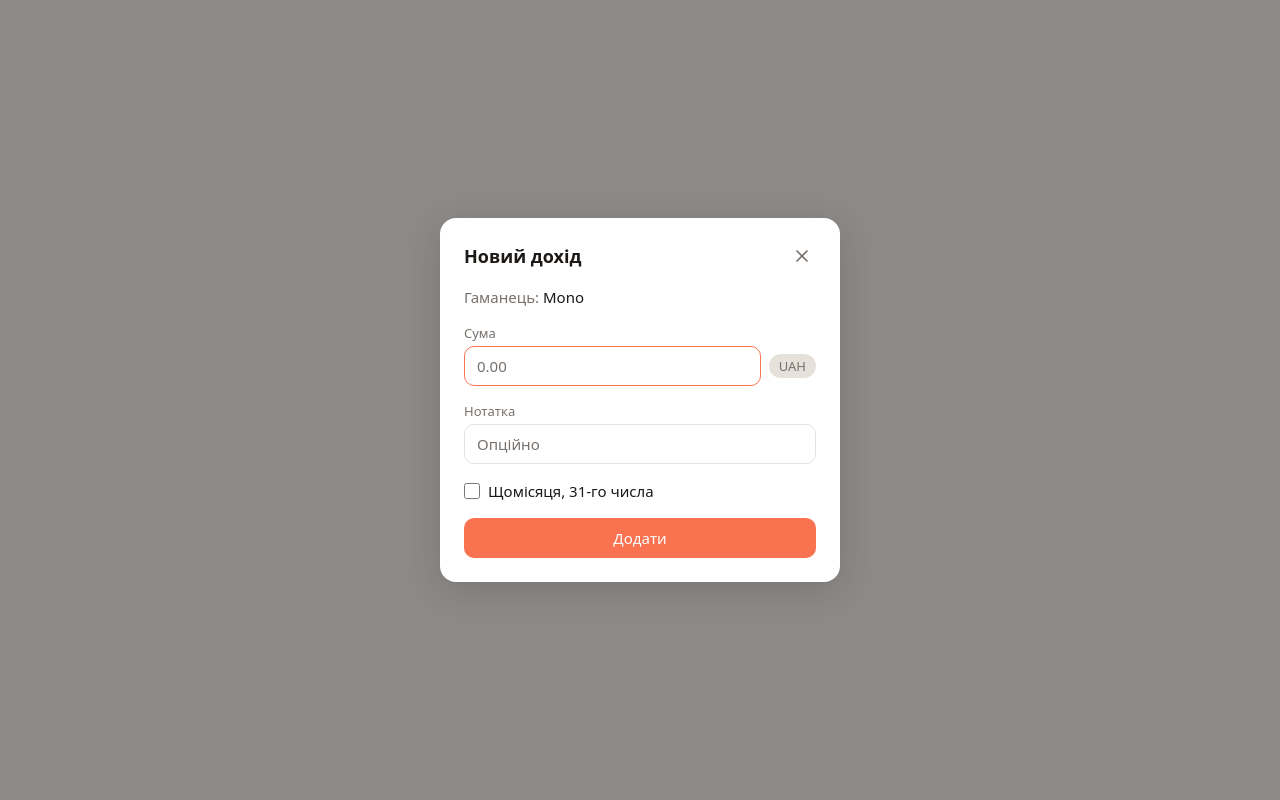
Scenario: IncomeDialog › asks for a name before creating a monthly rule
Type "250" into the field labelled "Сума".
click(612, 366); type("250")  # box [464,346,761,386]
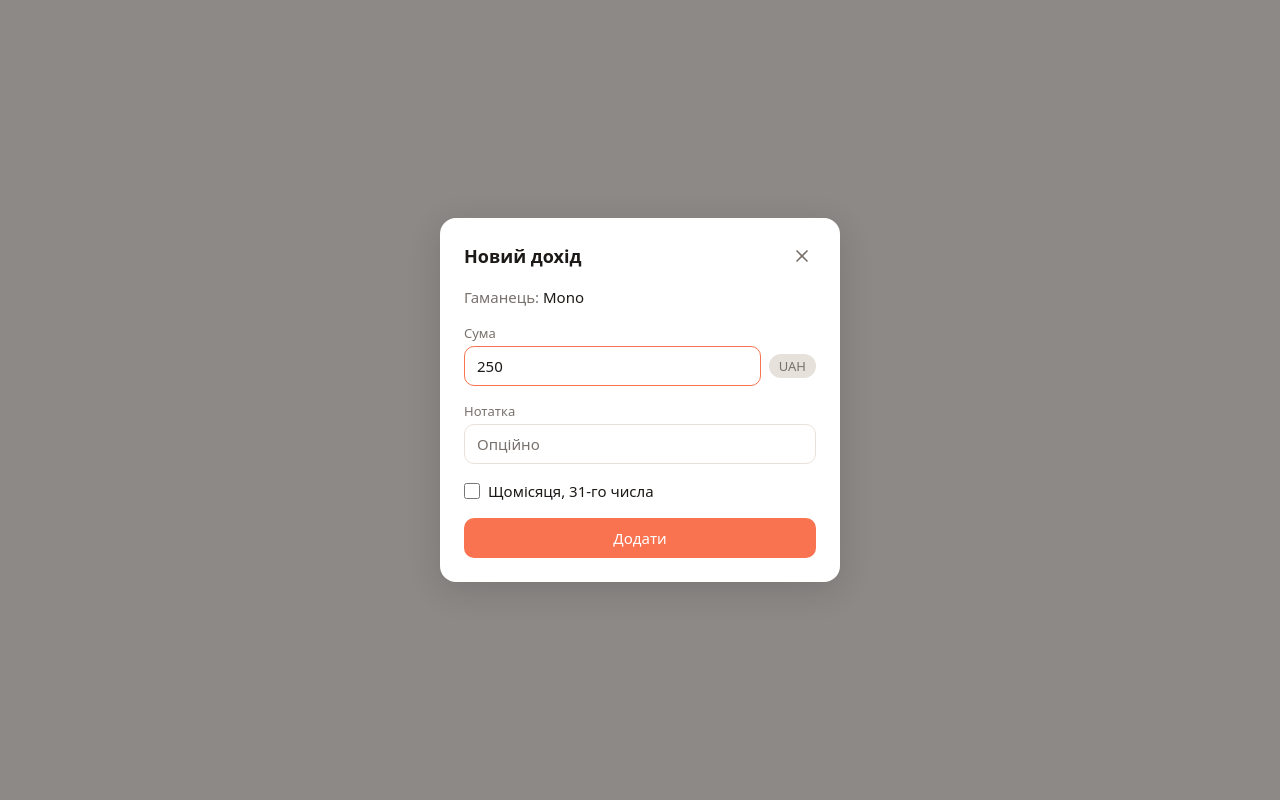
Click the checkbox labelled "Щомісяця, 31-го числа".
click(472, 491)  # box [464,483,480,499]
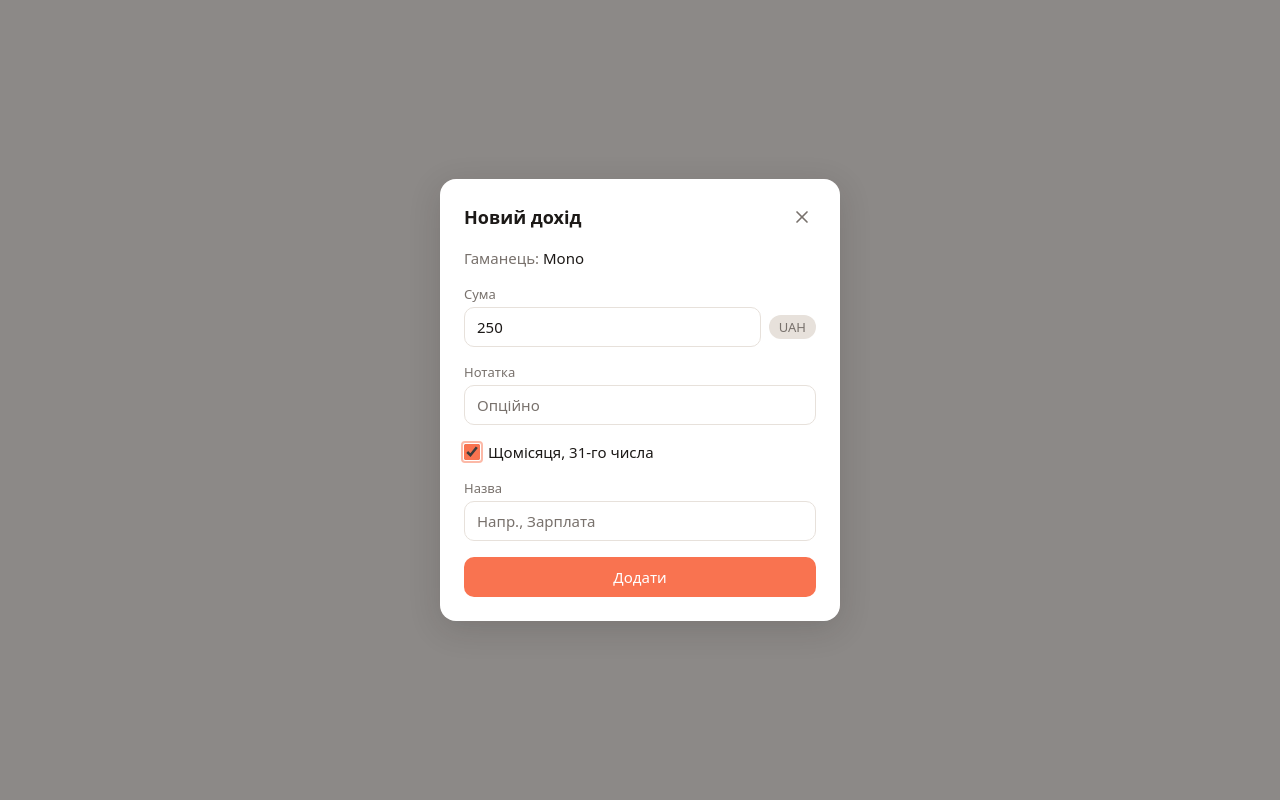
Click the button "Додати".
click(640, 577)  # box [464,557,816,597]
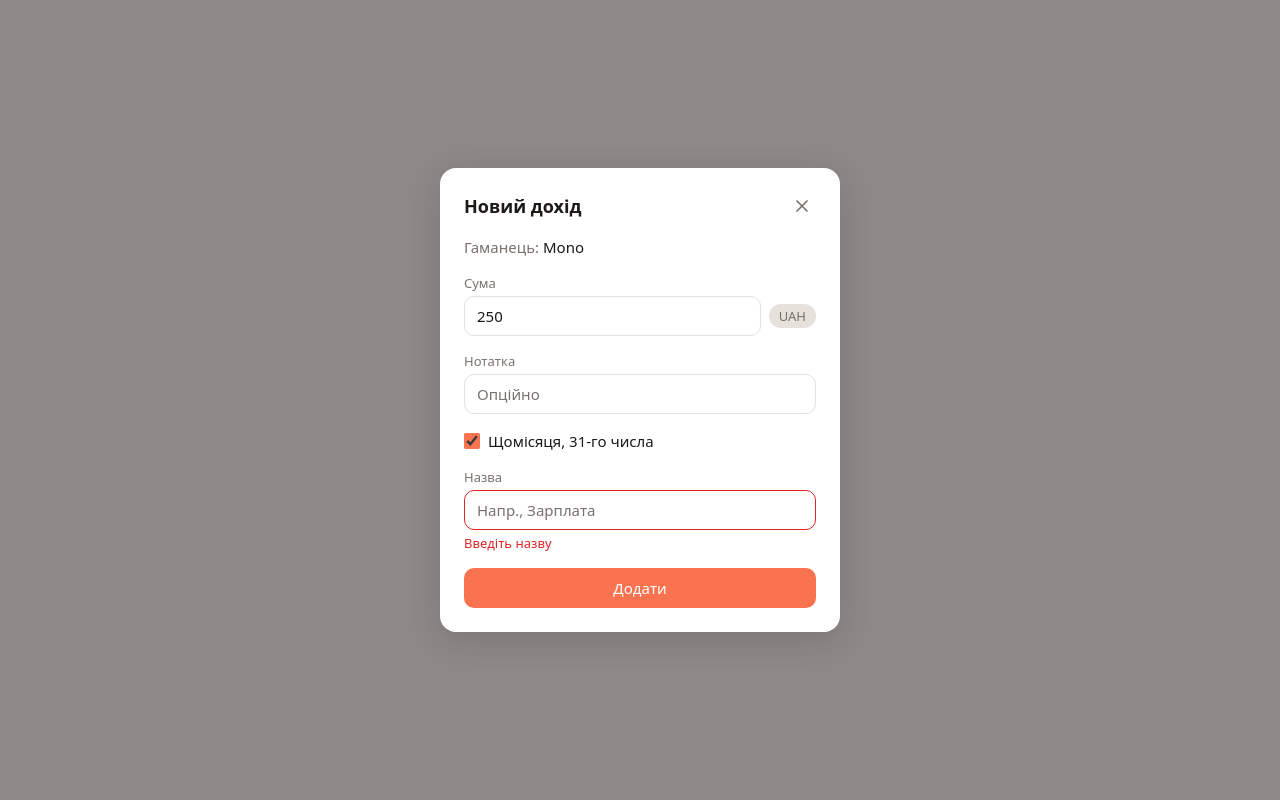
Check: the text "Введіть назву" is shown, box [464,534,552,552]
